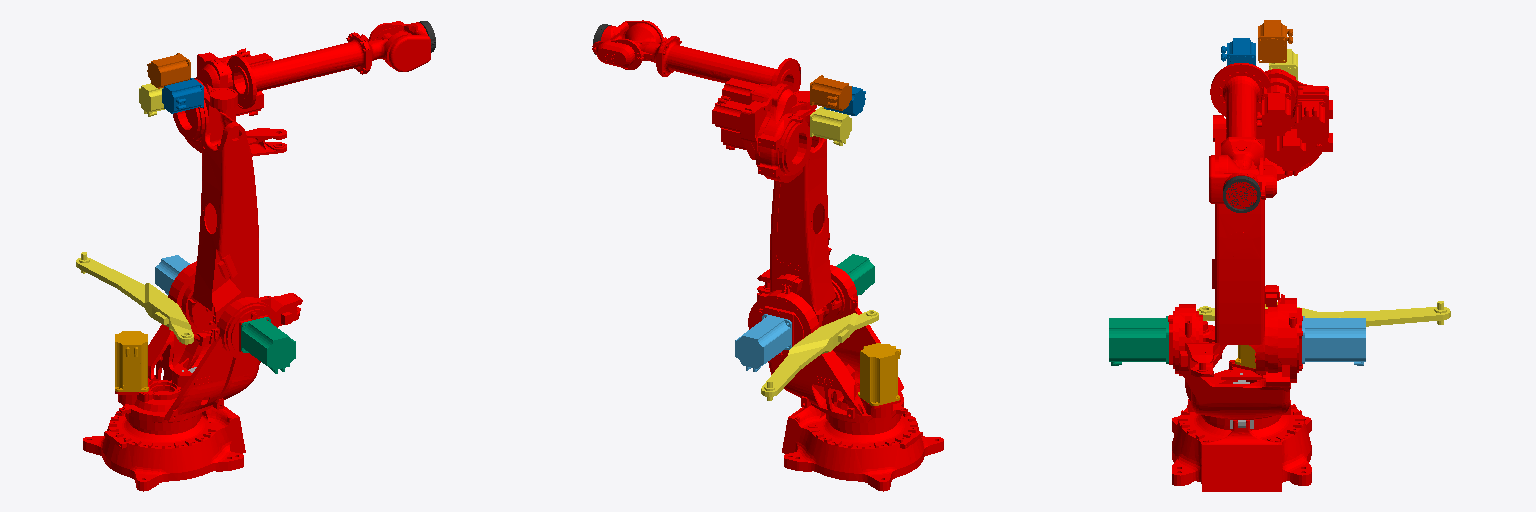
--- Facts derived from the render (not from the file) ---
3 views of the same robot in one strip: view 1: azimuth 30°, elevation 25°; view 2: azimuth 150°, elevation 25°; view 3: azimuth 270°, elevation 25° (orthographic).
Robot: nj_220_2_7 — 22 links, 21 joints (8 revolute, 4 continuous, 9 fixed); root link world; default pose: all joints at 0.
Visible links, largest first — view 1: link_1, link_2, base_link, link_4, link_3, link_2_2, motor_3, motor_1, link_5, motor_5, motor_6, link_2_1 (+2 smaller); view 2: link_1, base_link, link_2, link_3, link_4, link_2_2, motor_1, motor_2, link_5, motor_4, motor_6, motor_3; view 3: base_link, link_1, link_2, link_3, link_4, motor_2, motor_3, link_2_2, link_5, link_2_1, motor_6, motor_5 (+1 smaller).
Link boxes in pixels (<box>): link_1: <box>115,261,277,422</box>; link_2: <box>188,112,258,333</box>; base_link: <box>83,391,245,491</box>; link_4: <box>227,32,411,108</box>; link_3: <box>173,48,286,156</box>; link_2_2: <box>76,252,193,344</box>; motor_3: <box>241,317,295,373</box>; motor_1: <box>115,331,148,391</box>; link_5: <box>369,21,430,71</box>; motor_5: <box>162,78,203,113</box>; motor_6: <box>147,53,190,88</box>; link_2_1: <box>217,293,302,326</box>; link_1: <box>748,265,907,422</box>; base_link: <box>782,405,943,491</box>; link_2: <box>770,110,835,326</box>; link_3: <box>712,78,816,182</box>; link_4: <box>625,23,800,91</box>; link_2_2: <box>761,310,878,400</box>; motor_1: <box>858,343,900,405</box>; motor_2: <box>735,314,791,371</box>; link_5: <box>592,20,663,69</box>; motor_4: <box>810,107,851,145</box>; motor_6: <box>810,75,851,110</box>; motor_3: <box>836,254,874,295</box>; base_link: <box>1172,404,1311,491</box>; link_1: <box>1168,294,1302,419</box>; link_2: <box>1212,115,1279,373</box>; link_3: <box>1257,69,1332,180</box>; link_4: <box>1210,63,1271,175</box>; motor_2: <box>1302,316,1365,365</box>; motor_3: <box>1109,316,1168,365</box>; link_2_2: <box>1197,301,1450,326</box>; link_5: <box>1209,155,1276,208</box>; link_2_1: <box>1179,321,1226,376</box>; motor_6: <box>1258,20,1292,62</box>; motor_5: <box>1221,38,1255,65</box>.
Bounding box of the posed robot: 2.1 × 1.71 × 2.42 m (x, y, z).
16 mesh visuals loaded from 13 distinct referenced files (13 binary STL).

URDF robot description (nj_220_2_7):
<?xml version="1.0" ?>
<!-- =================================================================================== -->
<!-- |    This document was autogenerated by xacro from [local-path]/projects/personal_ws/src/nj_220_2_7/nj_220_2_7_description/urdf/nj_220_2_7_rviz.xacro | -->
<!-- |    EDITING THIS FILE BY HAND IS NOT RECOMMENDED                                 | -->
<!-- =================================================================================== -->
<robot name="nj_220_2_7">
    <link name="world" />
    <!-- <xacro:macro name="nj_220_2_7" params="prefix:='' interface:=hardware_interface/PositionJointInterface type:=urdf"> -->
    <!--  195°/s -->
    <link name="base_link">
        <inertial>
            <origin rpy="0 0 0" xyz="0.035817 -0.00001 0.13320" />
            <mass value="780.97" />
            <inertia ixx="39.64573032" ixy="0.00269524" ixz="-3.73357627" iyy="48.50586929" iyz="-0.00127807" izz="49.079656" />
        </inertial>
        <visual>
            <origin rpy="0 0 0" xyz="0 0 0" />
            <geometry>
                <mesh filename="package://nj_220_2_7_gazebo/meshes/base_link.STL" />
            </geometry>
            <material name="">
                <color rgba="1 0 0 1" />
            </material>
        </visual>
        <collision>
            <origin rpy="0 0 0" xyz="0 0 0" />
            <geometry>
                <mesh filename="package://nj_220_2_7_gazebo/meshes/base_link.STL" />
            </geometry>
        </collision>
    </link>
    <link name="link_1">
        <inertial>
            <origin rpy="0 0 0" xyz="0.31397 0.02536 0.37802" />
            <mass value="120.57" />
            <inertia ixx="96.14944607" ixy="2.82831578" ixz="59.92048931" iyy="132.52767347" iyz="3.87136939" izz="76.40305744" />
        </inertial>
        <visual>
            <origin rpy="0 0 0" xyz="0 0 0" />
            <geometry>
                <mesh filename="package://nj_220_2_7_gazebo/meshes/link_1.STL" />
            </geometry>
            <material name="">
                <color rgba="1 0 0 1" />
            </material>
        </visual>
        <collision>
            <origin rpy="0 0 0" xyz="0 0 0" />
            <geometry>
                <mesh filename="package://nj_220_2_7_gazebo/meshes/link_1.STL" />
            </geometry>
        </collision>
    </link>
    <joint name="joint_1" type="revolute">
        <origin rpy="0 0 0" xyz="0 0 0.331" />
        <parent link="base_link" />
        <child link="link_1" />
        <axis xyz="0 0 1" />
        <limit effort="100000" lower="-1.570796327" upper="1.570796327" velocity="1.74533" />
    </joint>
    <link name="link_2">
        <inertial>
            <origin rpy="0 0 0" xyz="0.018416 -0.00326 0.51384" />
            <mass value="120.34" />
            <inertia ixx="53.73638778" ixy="-0.00887173" ixz="1.24711967" iyy="53.48705119" iyz="-0.66793611" izz="2.25971599" />
        </inertial>
        <visual>
            <origin rpy="0 0 0" xyz="0 0 0" />
            <geometry>
                <mesh filename="package://nj_220_2_7_gazebo/meshes/link_2.STL" />
            </geometry>
            <material name="">
                <color rgba="1 0 0 1" />
            </material>
        </visual>
        <collision>
            <origin rpy="0 0 0" xyz="0 0 0" />
            <geometry>
                <mesh filename="package://nj_220_2_7_gazebo/meshes/link_2.STL" />
            </geometry>
        </collision>
    </link>
    <joint name="joint_2" type="revolute">
        <origin rpy="0 0 0" xyz="0.4 0 0.499" />
        <parent link="link_1" />
        <child link="link_2" />
        <axis xyz="0 1 0" />
        <limit effort="100000" lower="-1.308996939" upper="1.658062789" velocity="1.5708" />
    </joint>
    <link name="link_3_virtual">
        <inertial>
            <origin rpy="0 0 0" xyz="0 0 0" />
            <mass value="0.01" />
            <inertia ixx="0.00001" ixy="0.00000" ixz="0.00000" iyy="0.00001" iyz="0.00000" izz="0.00000" />
        </inertial>
    </link>
    <joint name="joint_2m" type="revolute">
        <origin rpy="0 0 0" xyz="0 0 1.175" />
        <parent link="link_2" />
        <child link="link_3_virtual" />
        <axis xyz="0 1 0" />
        <mimic joint="joint_2" multiplier="-1" offset="0" />
        <limit effort="100000" lower="-6.2831853" upper="6.2831853" velocity="3.40339" />
    </joint>
    <link name="link_3">
        <inertial>
            <origin rpy="0 0 0" xyz="-0.04239 0.01939 0.2104" />
            <mass value="303.81" />
            <inertia ixx="24.45402173" ixy="-0.58037596" ixz="-2.46563321" iyy="20.71802091" iyz="2.40454026" izz="9.01610712" />
        </inertial>
        <visual>
            <origin rpy="0 0 0" xyz="0 0 0" />
            <geometry>
                <mesh filename="package://nj_220_2_7_gazebo/meshes/link_3.STL" />
            </geometry>
            <material name="">
                <color rgba="1 0 0 1" />
            </material>
        </visual>
        <collision>
            <origin rpy="0 0 0" xyz="0 0 0" />
            <geometry>
                <mesh filename="package://nj_220_2_7_gazebo/meshes/link_3.STL" />
            </geometry>
        </collision>
    </link>
    <joint name="joint_3" type="revolute">
        <origin rpy="0 0 0" xyz="0 0 0" />
        <parent link="link_3_virtual" />
        <child link="link_3" />
        <axis xyz="0 -1 0" />
        <limit effort="100000" lower="-4.468042885" upper="0.174532925" velocity="1.91986" />
    </joint>
    <link name="link_4">
        <inertial>
            <origin rpy="0 0 0" xyz="0.71228 -0.02567 -0.00003" />
            <mass value="90.963" />
            <inertia ixx="0.68929228290" ixy="-2.39235486446" ixz="-0.00192589885" iyy="58.11987131958" iyz="-0.00017654018" izz="58.29818388998" />
        </inertial>
        <visual>
            <origin rpy="0 0 0" xyz="0 0 0" />
            <geometry>
                <mesh filename="package://nj_220_2_7_gazebo/meshes/link_4.STL" />
            </geometry>
            <material name="">
                <color rgba="1 0 0 1" />
            </material>
        </visual>
        <collision>
            <origin rpy="0 0 0" xyz="0 0 0" />
            <geometry>
                <mesh filename="package://nj_220_2_7_gazebo/meshes/link_4.STL" />
            </geometry>
        </collision>
    </link>
    <joint name="joint_4" type="revolute">
        <origin rpy="0 0 0" xyz="0.105 0 0.25" />
        <parent link="link_3" />
        <child link="link_4" />
        <axis xyz="1 0 0" />
        <limit effort="1230" lower="-6.2831853" upper="6.2831853" velocity="2.26893" />
    </joint>
    <link name="link_5">
        <inertial>
            <origin rpy="0 0 0" xyz="0.09375 0.01506 0.00002" />
            <mass value="50.615" />
            <inertia ixx="0.67974396" ixy="0.04508972" ixz="0.00009980" iyy="0.83229961" iyz="0.00011851" izz="1.32231171" />
        </inertial>
        <visual>
            <origin rpy="0 0 0" xyz="0 0 0" />
            <geometry>
                <mesh filename="package://nj_220_2_7_gazebo/meshes/link_5.STL" />
            </geometry>
            <material name="">
                <color rgba="1 0 0 1" />
            </material>
        </visual>
        <collision>
            <origin rpy="0 0 0" xyz="0 0 0" />
            <geometry>
                <mesh filename="package://nj_220_2_7_gazebo/meshes/link_5.STL" />
            </geometry>
        </collision>
    </link>
    <joint name="joint_5" type="revolute">
        <origin rpy="0 0 0" xyz="1.02033 0 0" />
        <parent link="link_4" />
        <child link="link_5" />
        <axis xyz="0 1 0" />
        <limit effort="1230" lower="-2.1816" upper="2.1816" velocity="2.26893" />
    </joint>
    <link name="link_6">
        <inertial>
            <origin rpy="0 0 0" xyz="0.0058594 -0.00060952 -5.99E-05" />
            <mass value="5.3437" />
            <inertia ixx="0.02913604" ixy="-0.00000822" ixz="-0.00000086" iyy="0.01533002" iyz="0.00000585" izz="0.01518874" />
        </inertial>
        <visual>
            <origin rpy="0 0 0" xyz="0 0 0" />
            <geometry>
                <mesh filename="package://nj_220_2_7_gazebo/meshes/link_6.STL" />
            </geometry>
            <material name="">
                <color rgba="0.25098 0.25098 0.25098 1" />
            </material>
        </visual>
        <collision>
            <origin rpy="0 0 0" xyz="0 0 0" />
            <geometry>
                <mesh filename="package://nj_220_2_7_gazebo/meshes/link_6.STL" />
            </geometry>
        </collision>
    </link>
    <joint name="joint_6" type="revolute">
        <origin rpy="0 0 0" xyz="0.2085 0 0" />
        <parent link="link_5" />
        <child link="link_6" />
        <axis xyz="1 0 0" />
        <limit effort="712" lower="-6.2831853" upper="6.2831853" velocity="3.40339" />
    </joint>
    <link name="link_2_1">
        <inertial>
            <origin rpy="0 0 0" xyz="-0.14831 0.02392 -0.01938" />
            <mass value="41.905" />
            <inertia ixx="0.20904736" ixy="-0.17095810" ixz="0.20186889" iyy="1.77577938" iyz="-0.02155338" izz="1.68515339" />
        </inertial>
        <visual>
            <origin rpy="0 0 0" xyz="0 0 0" />
            <geometry>
                <mesh filename="package://nj_220_2_7_gazebo/meshes/link_2_1.STL" />
            </geometry>
            <material name="">
                <color rgba="1 0 0 1" />
            </material>
        </visual>
        <collision>
            <origin rpy="0 0 0" xyz="0 0 0" />
            <geometry>
                <mesh filename="package://nj_220_2_7_gazebo/meshes/link_2_1.STL" />
            </geometry>
        </collision>
    </link>
    <joint name="joint_3m" type="revolute">
        <origin rpy="0 0 0" xyz="0.400 -0.1945 0.499" />
        <parent link="link_1" />
        <child link="link_2_1" />
        <axis xyz="0 -1 0" />
        <limit effort="0" lower="-6.2831853" upper="6.2831853" velocity="0" />
        <mimic joint="joint_3" multiplier="1" offset="0" />
    </joint>
    <link name="link_2_2_virtual">
        <inertial>
            <origin rpy="0 0 0" xyz="0 0 0" />
            <mass value="0.01" />
            <inertia ixx="0.00001" ixy="0.00000" ixz="0.00000" iyy="0.00001" iyz="0.00000" izz="0.00000" />
        </inertial>
    </link>
    <joint name="joint_2_1" type="continuous">
        <origin rpy="0 0 0" xyz="-0.34867 0.015 -0.0305" />
        <parent link="link_2_1" />
        <child link="link_2_2_virtual" />
        <axis xyz="0 1 0" />
        <mimic joint="joint_3" multiplier="1" offset="0" />
    </joint>
    <link name="link_2_2">
        <inertial>
            <origin rpy="0 0 0" xyz="-0.06443 0.01485 0.51885" />
            <mass value="60.72" />
            <inertia ixx="21.93937071" ixy="-0.05733724" ixz="-1.89190480" iyy="22.27041146" iyz="0.47064670" izz="0.41028863" />
        </inertial>
        <visual>
            <origin rpy="0 0 0" xyz="0 0 0" />
            <geometry>
                <mesh filename="package://nj_220_2_7_gazebo/meshes/link_2_2.STL" />
            </geometry>
        </visual>
        <collision>
            <origin rpy="0 0 0" xyz="0 0 0" />
            <geometry>
                <mesh filename="package://nj_220_2_7_gazebo/meshes/link_2_2.STL" />
            </geometry>
        </collision>
    </link>
    <joint name="joint_2_2" type="continuous">
        <origin rpy="0 0 0" xyz="0.0 0.0 0.0" />
        <parent link="link_2_2_virtual" />
        <child link="link_2_2" />
        <axis xyz="0 1 0" />
        <mimic joint="joint_2" multiplier="1" offset="0" />
    </joint>
    <link name="link_2_3" />
    <joint name="joint_2_3" type="continuous">
        <origin rpy="0 0 0" xyz="0 0 1.175" />
        <parent link="link_2_2" />
        <child link="link_2_3" />
        <axis xyz="0 1 0" />
    </joint>
    <link name="link_2_4" />
    <joint name="joint_2_4" type="continuous">
        <origin rpy="0 0 0" xyz="-0.34867 -0.1795 -0.0305" />
        <parent link="link_3" />
        <child link="link_2_4" />
        <axis xyz="0 1 0" />
    </joint>
    <link name="flange">
        <inertial>
            <origin rpy="0 0 0" xyz="0 0 0" />
            <mass value="0.01" />
            <inertia ixx="0.00001" ixy="0.00000" ixz="0.00000" iyy="0.00001" iyz="0.00000" izz="0.00000" />
        </inertial>
    </link>
    <joint name="link_6_to_flange" type="fixed">
        <origin rpy="0 0 0" xyz="0 0 -0.0395" />
        <parent link="link_6" />
        <child link="flange" />
        <axis xyz="0 0 0" />
    </joint>
    <!-- Stroke Ends -->
    <link name="external_piece">
        <inertial>
            <origin rpy="0 0 0" xyz="0.25149 0 0.08305" />
            <mass value="11.17" />
            <inertia ixx="0.12505051" ixy="0" ixz="0.20615167" iyy="0.86139689" iyz="0" izz="0.75193919" />
        </inertial>
        <visual>
            <origin rpy="0 0 0" xyz="0 0 0" />
            <geometry>
                <mesh filename="package://nj_220_2_7_gazebo/meshes/external_part.STL" />
            </geometry>
        </visual>
        <collision>
            <origin rpy="0 0 0" xyz="0 0 0" />
            <geometry>
                <mesh filename="package://nj_220_2_7_gazebo/meshes/external_part.STL" />
            </geometry>
        </collision>
    </link>
    <joint name="joint_external_piece" type="fixed">
        <origin rpy="0 0 0" xyz="0 0 0" />
        <parent link="link_1" />
        <child link="external_piece" />
        <axis xyz="0 0 0" />
    </joint>
    <link name="motor_1">
        <inertial>
            <origin rpy="0 0 0" xyz="0 0.00059 -0.13134" />
            <mass value="74.18" />
            <inertia ixx="2.03862179" ixy="0.00000294" ixz="0.00001194" iyy="2.03393681" iyz="-0.01109897" izz="0.37378121" />
        </inertial>
        <visual>
            <origin rpy="0 0 0" xyz="0 0 0" />
            <geometry>
                <mesh filename="package://nj_220_2_7_gazebo/meshes/motor_80.STL" />
            </geometry>
        </visual>
        <collision>
            <origin rpy="0 0 0" xyz="0 0 0" />
            <geometry>
                <mesh filename="package://nj_220_2_7_gazebo/meshes/motor_80.STL" />
            </geometry>
        </collision>
    </link>
    <joint name="joint_motor_1" type="fixed">
        <origin rpy="0 0 4.194026193" xyz="-0.1567 0.0905 0.12075" />
        <parent link="link_1" />
        <child link="motor_1" />
        <axis xyz="0 0 0" />
    </joint>
    <link name="motor_2">
        <inertial>
            <origin rpy="0 0 0" xyz="0 0.00055 -0.14385" />
            <mass value="80.26" />
            <inertia ixx="2.5764983" ixy="0.00000380" ixz="0.01312758" iyy="2.49873445" iyz="-0.0000105" izz="0.40399789" />
        </inertial>
        <visual>
            <origin rpy="0 0 0" xyz="0 0 0" />
            <geometry>
                <mesh filename="package://nj_220_2_7_gazebo/meshes/motor_90.STL" />
            </geometry>
        </visual>
        <collision>
            <origin rpy="0 0 0" xyz="0 0 0" />
            <geometry>
                <mesh filename="package://nj_220_2_7_gazebo/meshes/motor_90.STL" />
            </geometry>
        </collision>
    </link>
    <joint name="joint_motor_2" type="fixed">
        <origin rpy="-1.570796327 1.570796327 0" xyz="0.400 0.2955 0.499" />
        <parent link="link_1" />
        <child link="motor_2" />
        <axis xyz="0 0 0" />
    </joint>
    <link name="motor_3">
        <inertial>
            <origin rpy="0 0 0" xyz="0 0.00059 -0.13134" />
            <mass value="74.18" />
            <inertia ixx="2.03862179" ixy="0.00000294" ixz="0.00001194" iyy="2.03393681" iyz="-0.01109897" izz="0.37378121" />
        </inertial>
        <visual>
            <origin rpy="0 0 0" xyz="0 0 0" />
            <geometry>
                <mesh filename="package://nj_220_2_7_gazebo/meshes/motor_80.STL" />
            </geometry>
        </visual>
        <collision>
            <origin rpy="0 0 0" xyz="0 0 0" />
            <geometry>
                <mesh filename="package://nj_220_2_7_gazebo/meshes/motor_80.STL" />
            </geometry>
        </collision>
    </link>
    <joint name="joint_motor_3" type="fixed">
        <origin rpy="1.570796327 1.570796327 0" xyz="0.400 -0.358 0.499" />
        <parent link="link_1" />
        <child link="motor_3" />
        <axis xyz="0 0 0" />
    </joint>
    <link name="motor_4">
        <inertial>
            <origin rpy="0 0 0" xyz="0.00125 0 -0.0852" />
            <mass value="28" />
            <inertia ixx="0.33783188" ixy="-0.00000254" ixz="-0.00532880" iyy="0.34073438" iyz="0.00000366" izz="0.08086422" />
        </inertial>
        <visual>
            <origin rpy="0 0 0" xyz="0 0 0" />
            <geometry>
                <mesh filename="package://nj_220_2_7_gazebo/meshes/motor_50.STL" />
            </geometry>
        </visual>
        <collision>
            <origin rpy="0 0 0" xyz="0 0 0" />
            <geometry>
                <mesh filename="package://nj_220_2_7_gazebo/meshes/motor_50.STL" />
            </geometry>
        </collision>
    </link>
    <joint name="joint_motor_4" type="fixed">
        <origin rpy="3.141592654 1.570796327 0" xyz="-0.200 0.21052 0.175" />
        <parent link="link_3" />
        <child link="motor_4" />
        <axis xyz="0 -1 0" />
    </joint>
    <link name="motor_5">
        <inertial>
            <origin rpy="0 0 0" xyz="0.00125 0 -0.0852" />
            <mass value="28" />
            <inertia ixx="0.33783188" ixy="-0.00000254" ixz="-0.00532880" iyy="0.34073438" iyz="0.00000366" izz="0.08086422" />
        </inertial>
        <visual>
            <origin rpy="0 0 0" xyz="0 0 0" />
            <geometry>
                <mesh filename="package://nj_220_2_7_gazebo/meshes/motor_50.STL" />
            </geometry>
        </visual>
        <collision>
            <origin rpy="0 0 0" xyz="0 0 0" />
            <geometry>
                <mesh filename="package://nj_220_2_7_gazebo/meshes/motor_50.STL" />
            </geometry>
        </collision>
    </link>
    <joint name="joint_motor_5" type="fixed">
        <origin rpy="1.570796327 0 -1.570796327" xyz="-0.1675 0 0.250" />
        <parent link="link_3" />
        <child link="motor_5" />
        <axis xyz="0 -1 0" />
    </joint>
    <link name="motor_6">
        <inertial>
            <origin rpy="0 0 0" xyz="0.00125 0 -0.0852" />
            <mass value="28" />
            <inertia ixx="0.33783188" ixy="-0.00000254" ixz="-0.00532880" iyy="0.34073438" iyz="0.00000366" izz="0.08086422" />
        </inertial>
        <visual>
            <origin rpy="0 0 0" xyz="0 0 0" />
            <geometry>
                <mesh filename="package://nj_220_2_7_gazebo/meshes/motor_50.STL" />
            </geometry>
        </visual>
        <collision>
            <origin rpy="0 0 0" xyz="0 0 0" />
            <geometry>
                <mesh filename="package://nj_220_2_7_gazebo/meshes/motor_50.STL" />
            </geometry>
        </collision>
    </link>
    <joint name="joint_motor_6" type="fixed">
        <origin rpy="-1.570796327 0 1.570796327" xyz="-0.1675 0.155 0.34577" />
        <parent link="link_3" />
        <child link="motor_6" />
        <axis xyz="0 -1 0" />
    </joint>
    <!-- End Stroke End -->
    <transmission name="tran_1">
        <type>transmission_interface/SimpleTransmission</type>
        <joint name="joint_1">
            <hardwareInterface>hardware_interface/EffortJointInterface</hardwareInterface>
        </joint>
        <actuator name="motor_1">
            <mechanicalReduction>1</mechanicalReduction>
            <hardwareInterface>hardware_interface/PositionJointInterface</hardwareInterface>
        </actuator>
    </transmission>
    <transmission name="tran_2">
        <type>transmission_interface/SimpleTransmission</type>
        <joint name="joint_2">
            <hardwareInterface>hardware_interface/EffortJointInterface</hardwareInterface>
        </joint>
        <actuator name="motor_2">
            <mechanicalReduction>1</mechanicalReduction>
            <hardwareInterface>hardware_interface/PositionJointInterface</hardwareInterface>
        </actuator>
    </transmission>
    <transmission name="tran_3">
        <type>transmission_interface/SimpleTransmission</type>
        <joint name="joint_3">
            <hardwareInterface>hardware_interface/EffortJointInterface</hardwareInterface>
        </joint>
        <actuator name="motor_3">
            <mechanicalReduction>1</mechanicalReduction>
            <hardwareInterface>hardware_interface/PositionJointInterface</hardwareInterface>
        </actuator>
    </transmission>
    <transmission name="tran_4">
        <type>transmission_interface/SimpleTransmission</type>
        <joint name="joint_4">
            <hardwareInterface>hardware_interface/EffortJointInterface</hardwareInterface>
        </joint>
        <actuator name="motor_4">
            <mechanicalReduction>1</mechanicalReduction>
            <hardwareInterface>hardware_interface/PositionJointInterface</hardwareInterface>
        </actuator>
    </transmission>
    <transmission name="tran_5">
        <type>transmission_interface/SimpleTransmission</type>
        <joint name="joint_5">
            <hardwareInterface>hardware_interface/EffortJointInterface</hardwareInterface>
        </joint>
        <actuator name="motor_5">
            <mechanicalReduction>1</mechanicalReduction>
            <hardwareInterface>hardware_interface/PositionJointInterface</hardwareInterface>
        </actuator>
    </transmission>
    <transmission name="tran_6">
        <type>transmission_interface/SimpleTransmission</type>
        <joint name="joint_6">
            <hardwareInterface>hardware_interface/EffortJointInterface</hardwareInterface>
        </joint>
        <actuator name="motor_6">
            <mechanicalReduction>1</mechanicalReduction>
            <hardwareInterface>hardware_interface/PositionJointInterface</hardwareInterface>
        </actuator>
    </transmission>
    <joint name="world_to_base_link" type="fixed">
        <origin rpy="0 0 0" xyz="0 0 0" />
        <parent link="world" />
        <child link="base_link" />
    </joint>
    <transmission name="trans_joint_2m">
        <type>transmission_interface/SimpleTransmission</type>
        <joint name="joint_2m">
            <hardwareInterface>hardware_interface/EffortJointInterface</hardwareInterface>
        </joint>
        <actuator name="joint_2m_motor">
            <hardwareInterface>hardware_interface/EffortJointInterface</hardwareInterface>
            <mechanicalReduction>1</mechanicalReduction>
        </actuator>
    </transmission>
    <transmission name="trans_joint_3m">
        <type>transmission_interface/SimpleTransmission</type>
        <joint name="joint_3m">
            <hardwareInterface>hardware_interface/EffortJointInterface</hardwareInterface>
        </joint>
        <actuator name="joint_3m_motor">
            <hardwareInterface>hardware_interface/EffortJointInterface</hardwareInterface>
            <mechanicalReduction>1</mechanicalReduction>
        </actuator>
    </transmission>
    <transmission name="trans_joint_2_1">
        <type>transmission_interface/SimpleTransmission</type>
        <joint name="joint_2_1">
            <hardwareInterface>hardware_interface/EffortJointInterface</hardwareInterface>
        </joint>
        <actuator name="joint_2_1_motor">
            <hardwareInterface>hardware_interface/EffortJointInterface</hardwareInterface>
            <mechanicalReduction>1</mechanicalReduction>
        </actuator>
    </transmission>
    <transmission name="trans_joint_2_2">
        <type>transmission_interface/SimpleTransmission</type>
        <joint name="joint_2_2">
            <hardwareInterface>hardware_interface/EffortJointInterface</hardwareInterface>
        </joint>
        <actuator name="joint_2_2_motor">
            <hardwareInterface>hardware_interface/EffortJointInterface</hardwareInterface>
            <mechanicalReduction>1</mechanicalReduction>
        </actuator>
    </transmission>
    <transmission name="trans_joint_2_3">
        <type>transmission_interface/SimpleTransmission</type>
        <joint name="joint_2_3">
            <hardwareInterface>hardware_interface/EffortJointInterface</hardwareInterface>
        </joint>
        <actuator name="joint_2_3_motor">
            <hardwareInterface>hardware_interface/EffortJointInterface</hardwareInterface>
            <mechanicalReduction>1</mechanicalReduction>
        </actuator>
    </transmission>
    <transmission name="trans_joint_2_4">
        <type>transmission_interface/SimpleTransmission</type>
        <joint name="joint_2_4">
            <hardwareInterface>hardware_interface/EffortJointInterface</hardwareInterface>
        </joint>
        <actuator name="joint_2_4_motor">
            <hardwareInterface>hardware_interface/EffortJointInterface</hardwareInterface>
            <mechanicalReduction>1</mechanicalReduction>
        </actuator>
    </transmission>
    <gazebo>
        <plugin name="gazebo_ros_control">
            <robotNamespace>/</robotNamespace>
        </plugin>
    </gazebo>
</robot>
